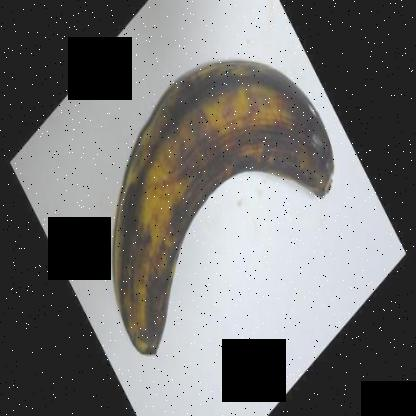overripe: (98, 50, 343, 373)
rotten: (258, 82, 345, 206)
